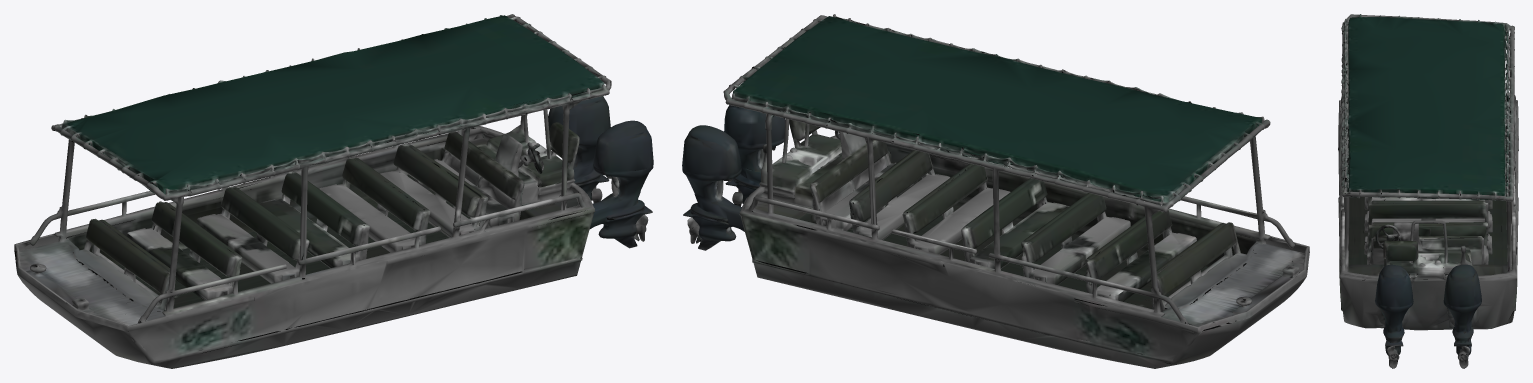
The model's file is river-boat.glb.
The picture shows the model from 3 angles, left to right: view 1: azimuth 30°, elevation 25°; view 2: azimuth 150°, elevation 25°; view 3: azimuth 270°, elevation 25°; orthographic projection. The views are drawn at different scales.
Parts seen in each view (by area): view 1: Model; view 2: Model; view 3: Model.
Boxes of the visible parts, x1,y1,x2,y2 form: Model: (14, 14, 653, 368); Model: (682, 14, 1309, 368); Model: (1338, 14, 1518, 368).
Size of the model in its own units: 1.9 by 0.6379 by 0.6504.
1 material, 1 textured.
